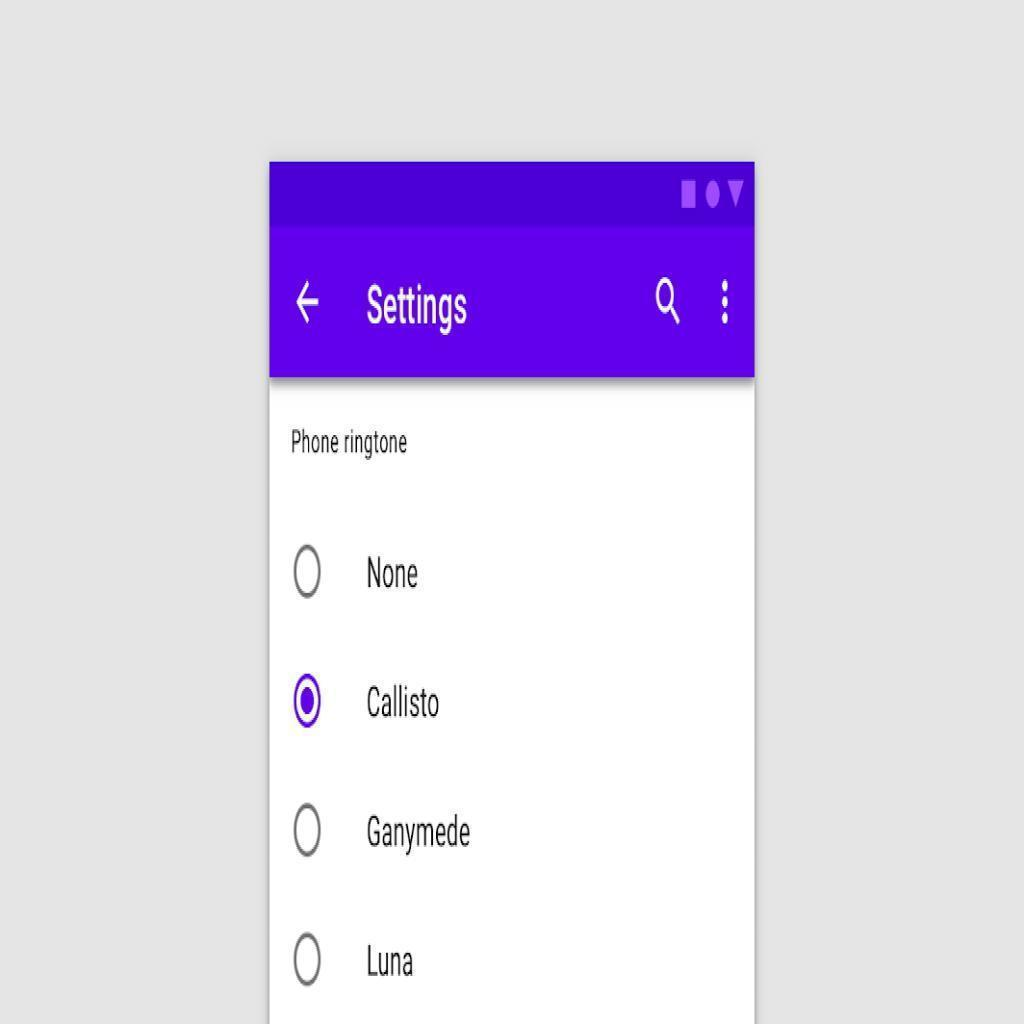icon: (650, 277, 687, 329), (714, 280, 740, 329), (296, 281, 320, 325)
label: (363, 283, 469, 337), (363, 806, 475, 854), (359, 546, 437, 605), (364, 677, 452, 728), (360, 937, 422, 988)
radio: (288, 933, 328, 994), (288, 668, 324, 735), (291, 800, 326, 859), (292, 543, 325, 599)
